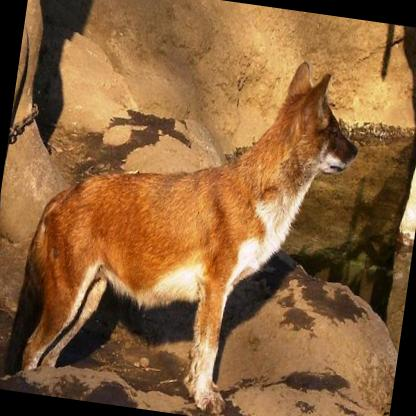dhole: (1, 22, 367, 416)
